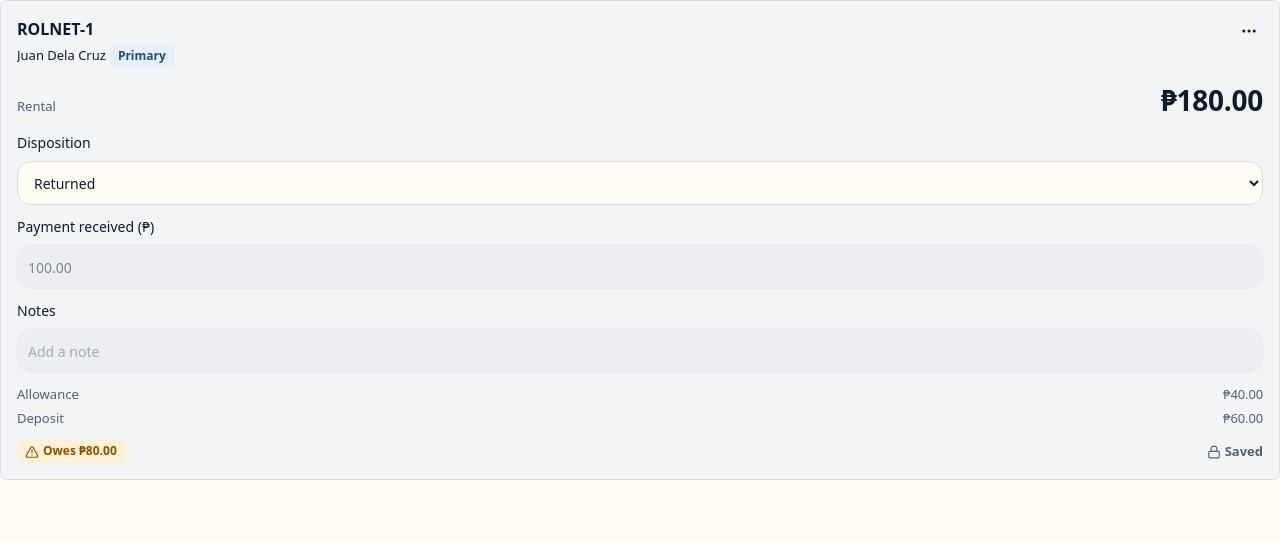
Scenario: DailyCard: correcting (feature 008, User Story 2) › unlocks payment and notes but keeps the disposition locked (FR-026)
Click the button named "Card options" at (1249, 31), box left=1227, top=9, right=1271, bottom=53
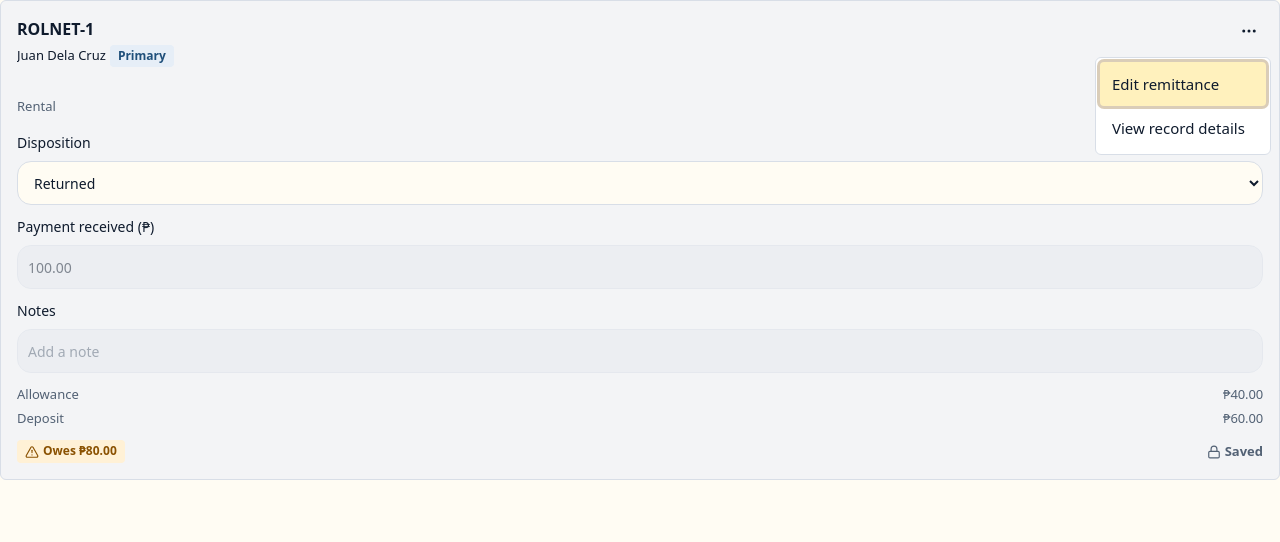
Click the menu item "Edit remittance" at (1183, 84), box left=1100, top=62, right=1266, bottom=106
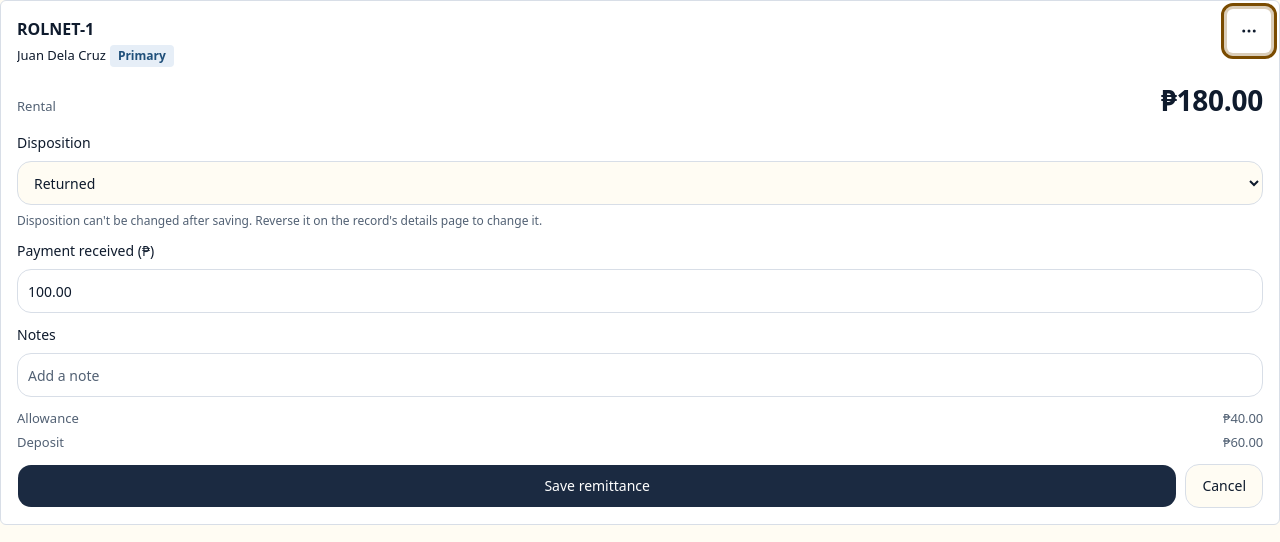
Expected: the field labelled "Payment received (₱)" holds "100.00", left=17, top=269, right=1263, bottom=313
Expected: the field labelled "Payment received (₱)" is enabled, left=17, top=269, right=1263, bottom=313
Expected: the text "Disposition can't be changed after saving. Reverse it on the record's details page" is shown, left=17, top=212, right=542, bottom=229
